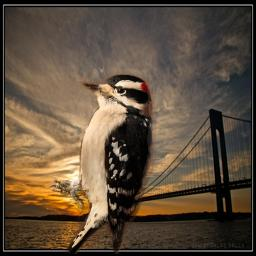Woodpecker: (47, 69, 156, 254)
